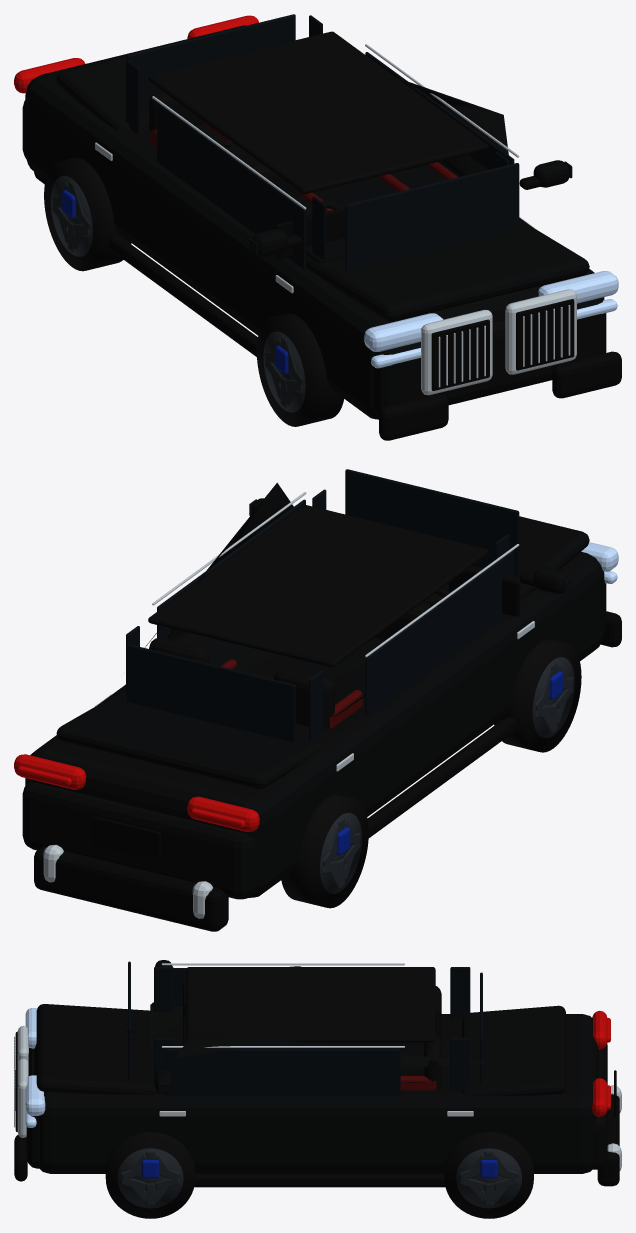
File: bmw_m5_g90_2025.obj
3 renders of one model, top to bottom at view 1: azimuth 30°, elevation 25°; view 2: azimuth 150°, elevation 25°; view 3: azimuth 270°, elevation 25°, orthographic. The views are drawn at different scales.
Visible parts, largest first — view 1: Lower_body, Headliner, Sculpted_hood, Windscreen, Side_window, Front_bumper, Roof_and_upper_greenhouse, Rear_glass, Tire, Tire.002, Trunk_lid, Side_skirt (+20 smaller); view 2: Lower_body, Headliner, Rear_bumper, Trunk_lid, Rear_glass, Side_window, Windscreen, Rear_diffuser, Roof_and_upper_greenhouse, Tire.002, Tire, Side_skirt (+13 smaller); view 3: Lower_body, Headliner, Side_window.001, Sculpted_hood, Trunk_lid, Roof_and_upper_greenhouse, Side_skirt.001, Tire.001, Tire.003, Forged_wheel_rim.003, Forged_wheel_rim.001, Rear_diffuser (+18 smaller).
Boxes of the visible parts, x1,y1,x2,y2 form: Lower_body: (25,25,604,419); Headliner: (148,31,488,194); Sculpted_hood: (306,219,589,321); Windscreen: (345,163,519,270); Side_window: (157,102,305,268); Front_bumper: (374,298,606,415); Roof_and_upper_greenhouse: (148,77,508,263); Rear_glass: (126,14,295,110); Tire: (256,313,343,426); Tire.002: (44,157,131,271); Trunk_lid: (56,56,148,130); Side_skirt: (108,235,257,356); Lower_body: (25,551,604,897); Headliner: (148,504,488,667); Rear_bumper: (22,781,255,899); Trunk_lid: (56,692,324,788); Rear_glass: (126,644,295,742); Side_window: (365,550,514,716); Windscreen: (345,469,519,576); Rear_diffuser: (34,846,228,931); Roof_and_upper_greenhouse: (144,482,521,718); Tire.002: (281,794,368,908); Tire: (494,639,581,752); Side_skirt: (367,716,516,837); Lower_body: (34,1014,598,1173); Headliner: (186,967,435,1042); Side_window.001: (166,1049,400,1096); Sculpted_hood: (36,1004,165,1094); Trunk_lid: (462,1005,565,1096); Roof_and_upper_greenhouse: (150,966,486,1085); Side_skirt.001: (194,1173,445,1187); Tire.001: (105,1132,195,1218); Tire.003: (444,1132,533,1218); Forged_wheel_rim.003: (456,1148,522,1208); Forged_wheel_rim.001: (117,1148,183,1208); Rear_diffuser: (597,1094,619,1186).
Size of what is drawn, in the model's own units: 2.63 by 1.8 by 5.49.
